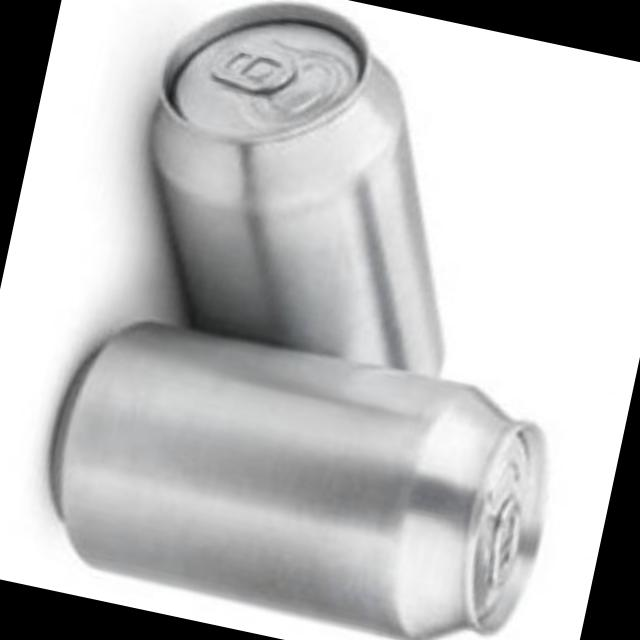metal: (58, 326, 548, 640), (155, 7, 444, 376)
